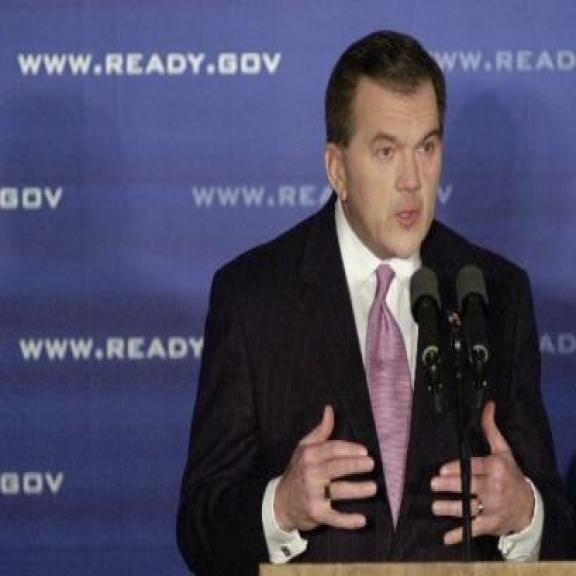face: (324, 72, 445, 255)
